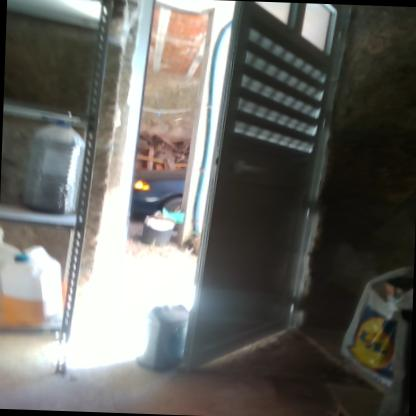semi: (112, 0, 341, 388)
